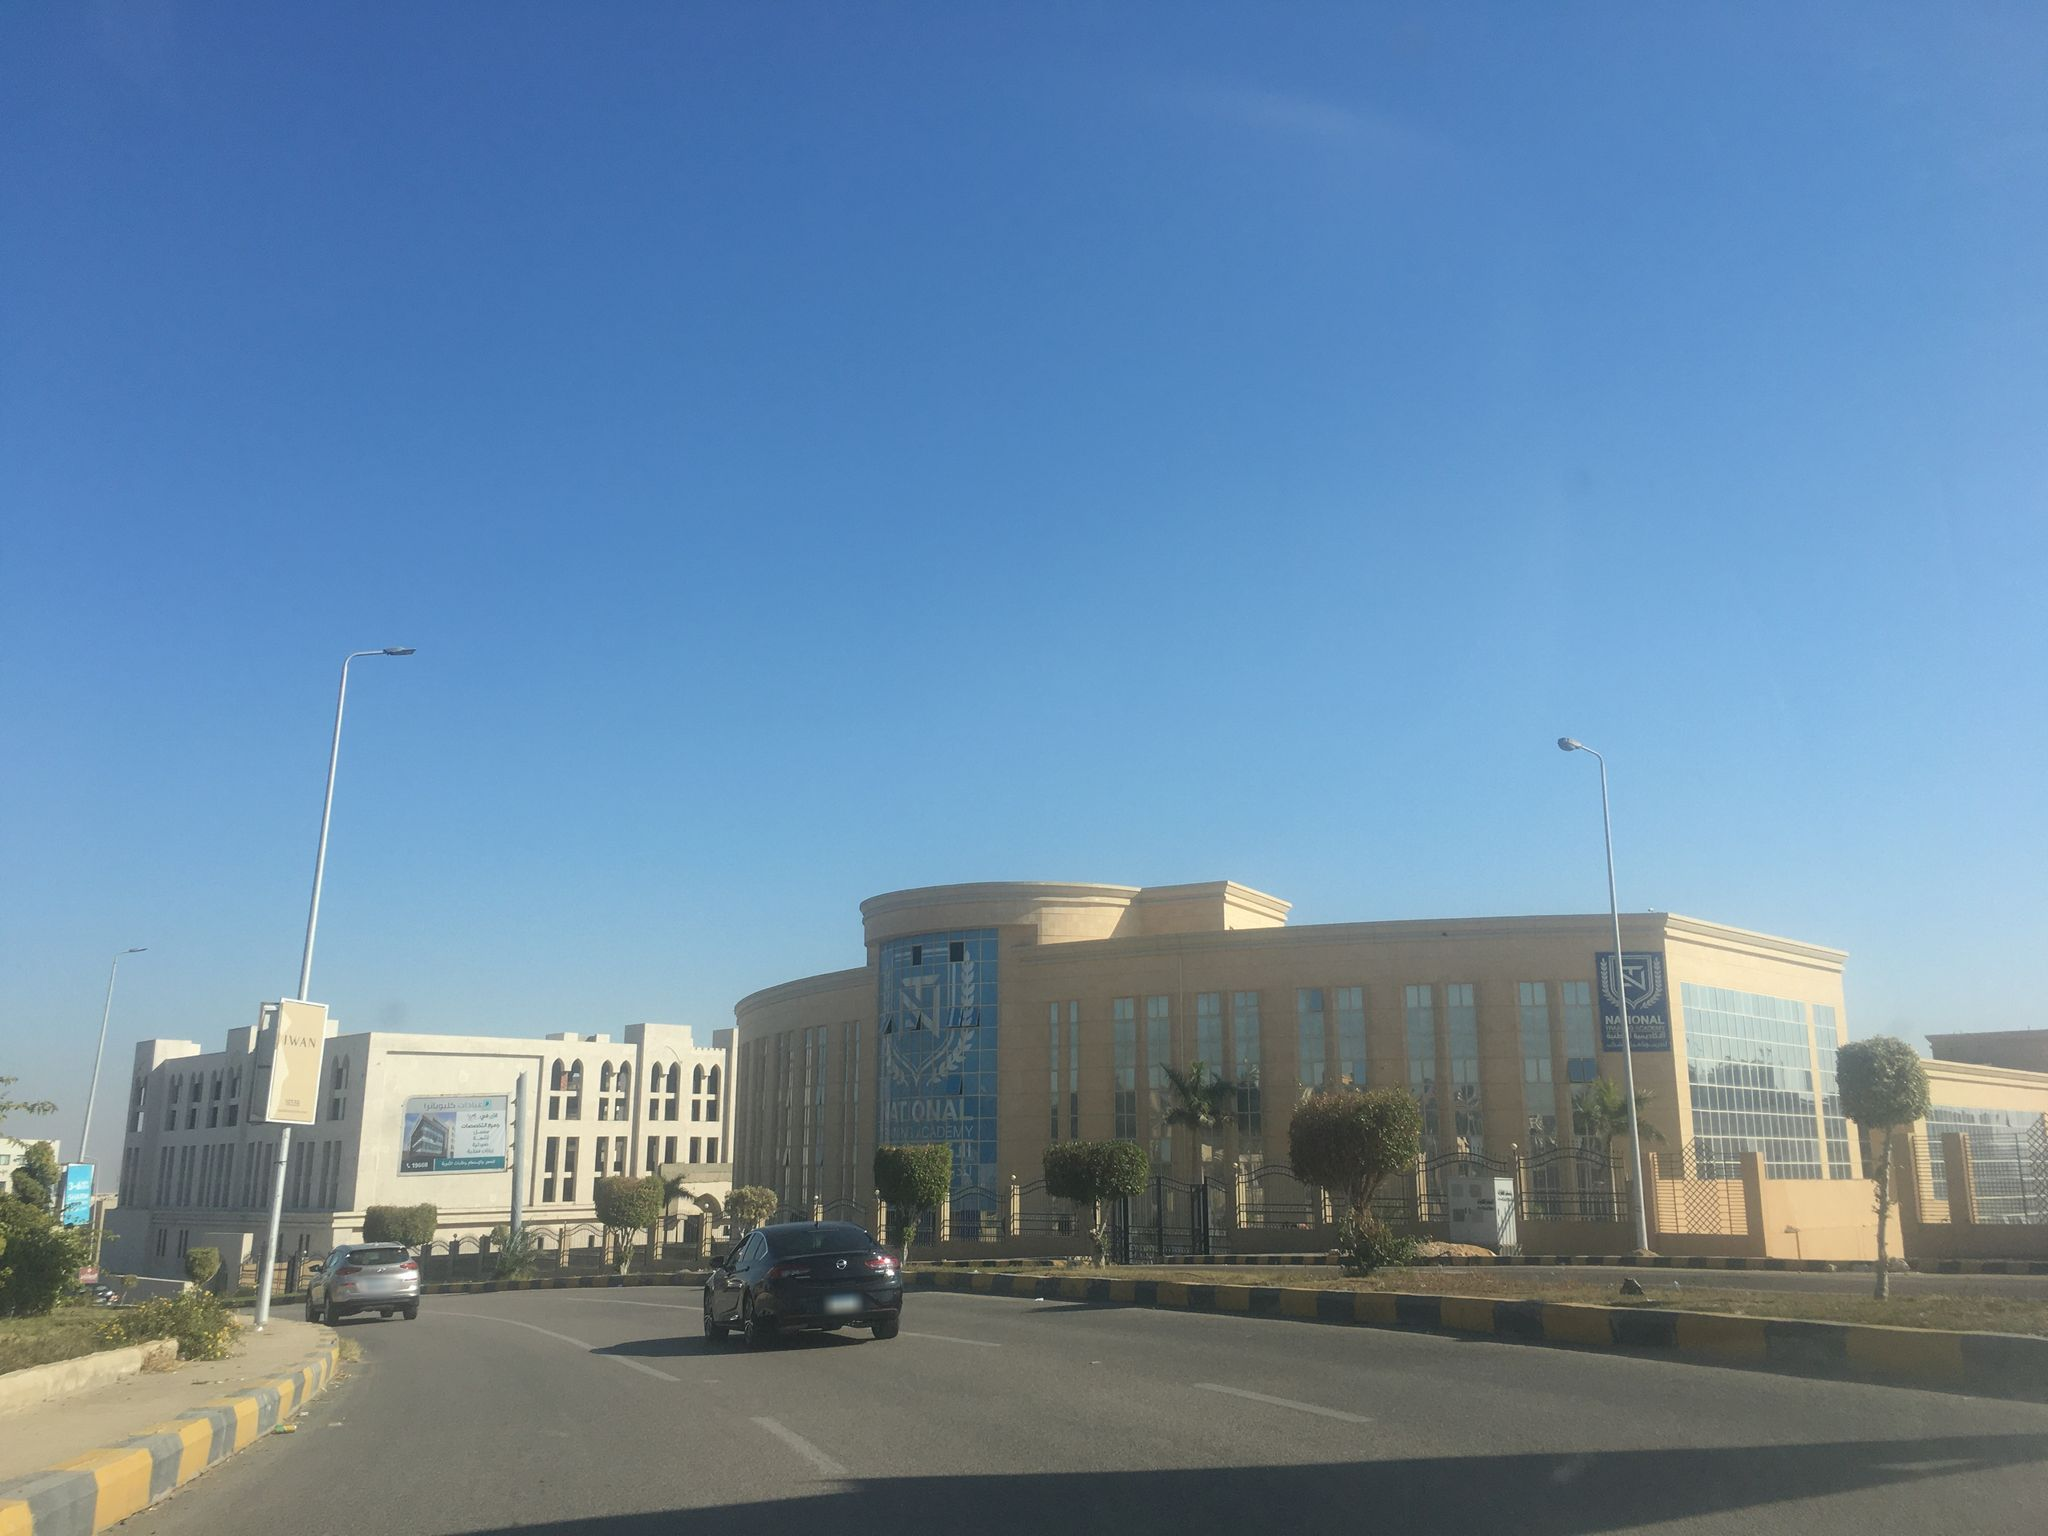car: (701, 1220, 903, 1346), (303, 1239, 421, 1325)
